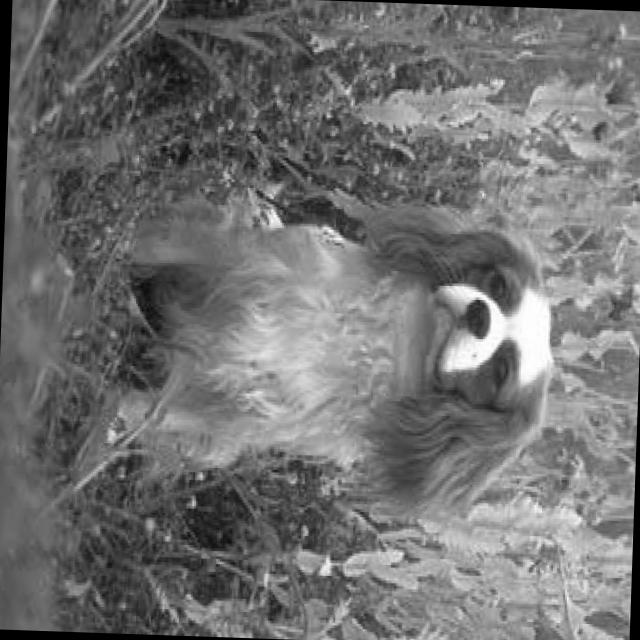sitting: (99, 174, 565, 532)
